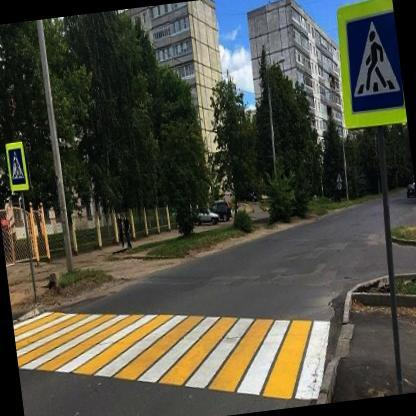obstructed_road_sign: (338, 0, 406, 129)
road_sign: (6, 141, 29, 193)
